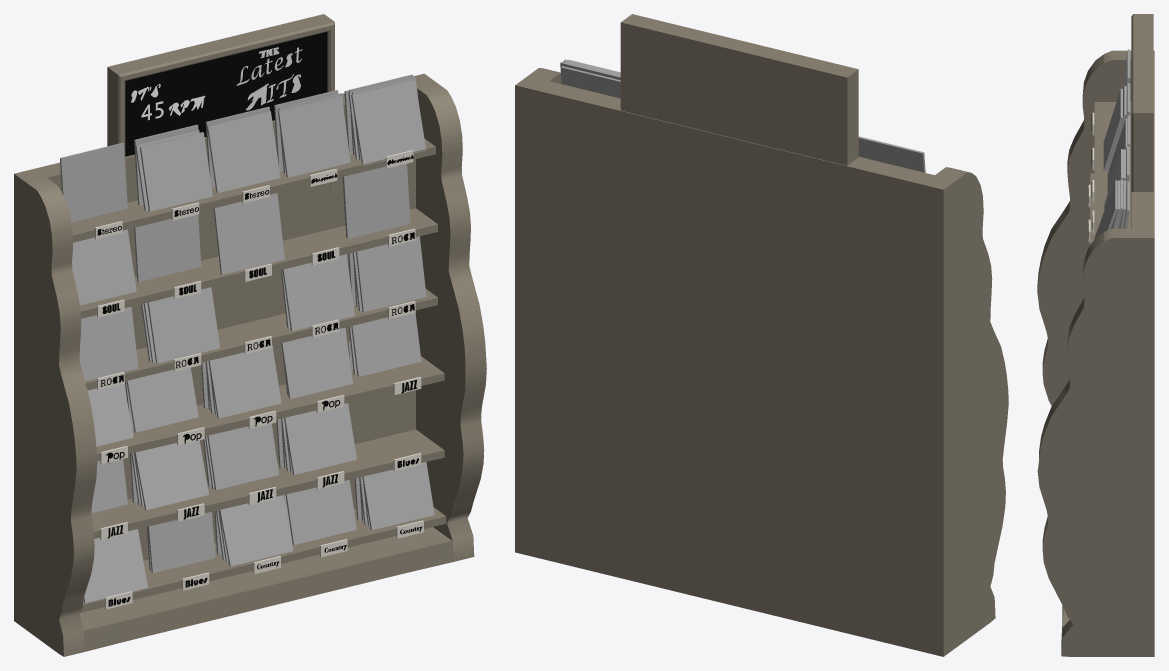
Rendered from RS_Shelving2_02_DF.fbx.
The picture shows the model from 3 angles, left to right: view 1: azimuth 30°, elevation 25°; view 2: azimuth 150°, elevation 25°; view 3: azimuth 270°, elevation 25°; orthographic projection. The views are drawn at different scales.
Visible parts, largest first — view 1: RecordShelving2; view 2: RecordShelving2; view 3: RecordShelving2.
Part boxes in pixels (x1,y1,x2,y2): RecordShelving2: (14,14,486,656); RecordShelving2: (515,14,1008,656); RecordShelving2: (1037,14,1154,656).
Bounding box in the file's own units: 1.52 × 1.89 × 0.4019.
